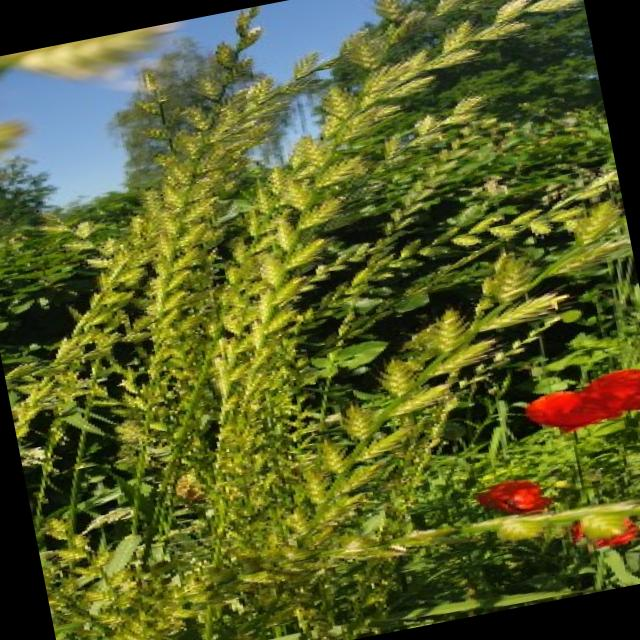Lolium: (74, 0, 625, 413), (145, 0, 640, 423), (236, 199, 640, 557), (55, 8, 339, 446), (0, 122, 326, 437), (109, 478, 640, 640), (274, 192, 636, 332), (207, 152, 410, 398), (338, 94, 498, 194), (47, 506, 156, 640)
